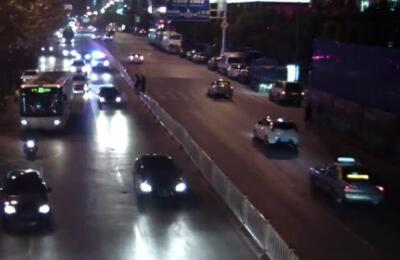bus: (13, 69, 76, 134), (158, 28, 183, 52), (146, 26, 165, 47)
car: (309, 156, 385, 210), (2, 165, 54, 229), (133, 153, 187, 207), (251, 114, 300, 148), (249, 55, 290, 92), (267, 79, 303, 107), (215, 51, 246, 75), (205, 77, 233, 98), (96, 86, 122, 108), (90, 54, 110, 71), (38, 40, 57, 57), (71, 72, 87, 92), (226, 62, 246, 78), (125, 50, 144, 64), (74, 49, 93, 62), (60, 45, 76, 60), (205, 55, 217, 70), (191, 51, 205, 62), (89, 31, 101, 41), (102, 31, 114, 41), (184, 49, 192, 58)
